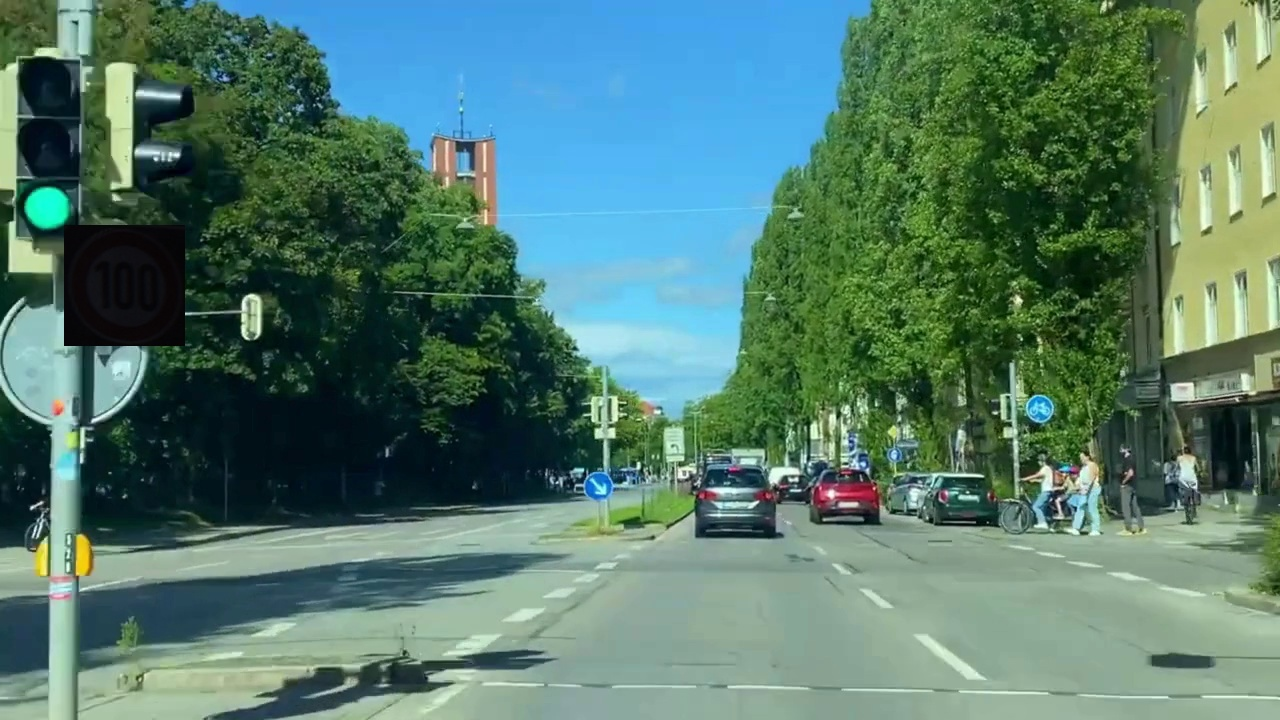Speed 100: (64, 225, 185, 346)
